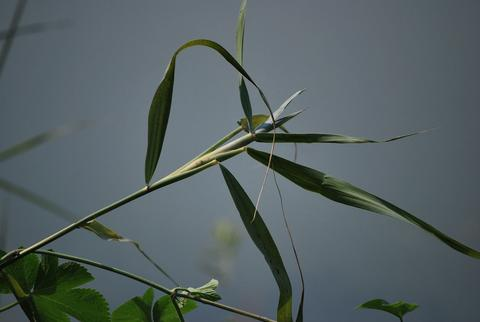crabgrass: (26, 100, 412, 238)
